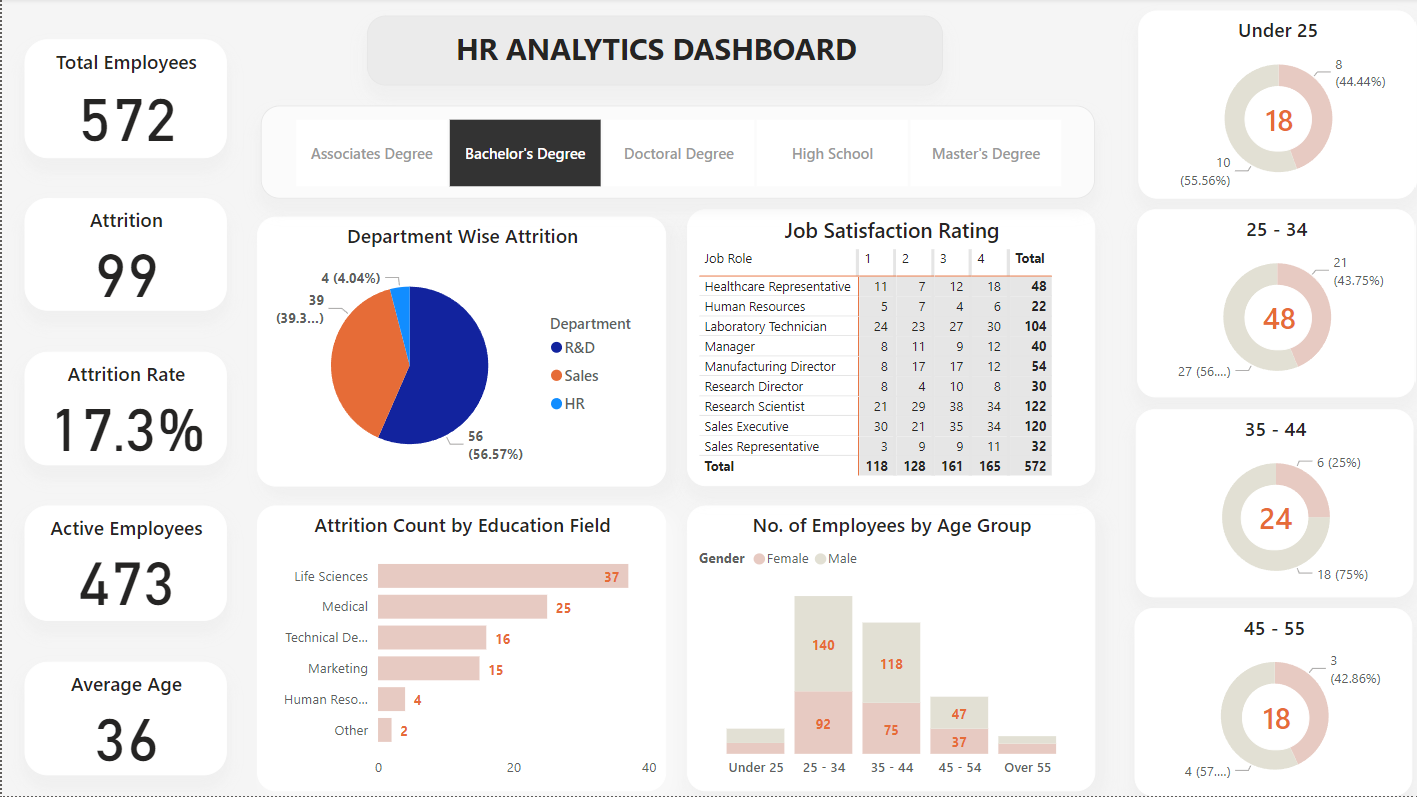

The page's visual inventory and layout, read from the dashboard file:
{"tool":"powerbi","page":{"name":"Page 1","canvas":[1280,720],"ordinal":0},"visuals":[{"type":"card","title":"Total Employees","fields":{"Values":["Sum(HR data.Employee Count)"]},"box":[20.8,36.7,182.1,107.6],"z":0},{"type":"card","title":"Attrition","fields":{"Values":["Sum(HR data.Attrition Count)"]},"box":[20.8,180.6,182.1,101.5],"z":1000},{"type":"card","title":"Attrition Rate","fields":{"Values":["HR data.Attrition Rate"]},"box":[20.8,318.4,182.1,102.7],"z":2000},{"type":"card","title":"Active Employees","fields":{"Values":["HR data.Active employees"]},"box":[20.8,457.5,182.1,103.9],"z":3000},{"type":"card","title":"Average Age","fields":{"Values":["Avg(HR data.Age)"]},"box":[20.8,597.8,182.1,102.7],"z":4000},{"type":"pieChart","title":"Department Wise Attrition","fields":{"Category":["HR data.Department"],"Y":["Sum(HR data.Attrition Count)"]},"box":[229.8,196.8,369.2,243.3],"z":5000},{"type":"columnChart","title":"No. of Employees by Age Group","fields":{"Y":["Sum(HR data.Employee Count)"],"Category":["HR data.CF_age band"],"Series":["HR data.Gender"]},"box":[617.3,457.2,367.9,257.9],"z":6000},{"type":"barChart","title":"Attrition Count by Education Field","fields":{"Category":["HR data.Education Field"],"Y":["Sum(HR data.Attrition Count)"]},"box":[229.8,457.2,369.2,257.9],"z":7000},{"type":"donutChart","title":"Under 25","fields":{"Category":["HR data.Gender"],"Y":["Sum(HR data.Attrition Count)"],"Series":["HR data.CF_age band"]},"box":[1024.4,11,250.6,169.9],"z":8000},{"type":"donutChart","title":"25 - 34","fields":{"Category":["HR data.Gender"],"Y":["Sum(HR data.Attrition Count)"],"Series":["HR data.CF_age band"]},"box":[1023.2,190.7,250.6,169.9],"z":9000},{"type":"donutChart","title":"35 - 44","fields":{"Category":["HR data.Gender"],"Y":["Sum(HR data.Attrition Count)"],"Series":["HR data.CF_age band"]},"box":[1021.9,370.4,250.6,169.9],"z":10000},{"type":"donutChart","title":"45 - 55","fields":{"Category":["HR data.Gender"],"Y":["Sum(HR data.Attrition Count)"],"Series":["HR data.CF_age band"]},"box":[1020.7,550.1,250.6,169.9],"z":11000},{"type":"pivotTable","title":"Job Satisfaction Rating","fields":{"Rows":["HR data.Job Role"],"Columns":["HR data.Job Satisfaction"],"Values":["Sum(HR data.Employee Count)"]},"box":[617.3,190.7,367.9,249.4],"z":12000},{"type":"textbox","box":[328.8,15.9,519.5,63.6],"z":13000},{"type":"slicer","fields":{"Values":["HR data.Education"]},"box":[233.5,96.6,751.8,84.3],"z":14000},{"type":"card","fields":{"Values":["Sum(HR data.Attrition Count)"]},"box":[1119.7,79.5,61.1,58.7],"z":15000},{"type":"card","fields":{"Values":["Sum(HR data.Attrition Count)"]},"box":[1119.7,259.6,61.1,58.7],"z":15001},{"type":"card","fields":{"Values":["Sum(HR data.Attrition Count)"]},"box":[1116.1,439.7,61.1,58.7],"z":15002},{"type":"card","fields":{"Values":["Sum(HR data.Attrition Count)"]},"box":[1117.3,619.8,61.1,58.7],"z":15003}]}

Visuals, with their boxes in screenshot pixels (x1, y1, x2, y2), scaled from the page's 1280x720 canvas onto the 1417x797 screenshot:
"Total Employees" card: {"left": 23, "top": 41, "right": 225, "bottom": 160}
"Attrition" card: {"left": 23, "top": 200, "right": 225, "bottom": 312}
"Attrition Rate" card: {"left": 23, "top": 352, "right": 225, "bottom": 466}
"Active Employees" card: {"left": 23, "top": 506, "right": 225, "bottom": 621}
"Average Age" card: {"left": 23, "top": 662, "right": 225, "bottom": 775}
"Department Wise Attrition" pieChart: {"left": 254, "top": 218, "right": 663, "bottom": 487}
"No. of Employees by Age Group" columnChart: {"left": 683, "top": 506, "right": 1091, "bottom": 792}
"Attrition Count by Education Field" barChart: {"left": 254, "top": 506, "right": 663, "bottom": 792}
"Under 25" donutChart: {"left": 1134, "top": 12, "right": 1411, "bottom": 200}
"25 - 34" donutChart: {"left": 1133, "top": 211, "right": 1410, "bottom": 399}
"35 - 44" donutChart: {"left": 1131, "top": 410, "right": 1409, "bottom": 598}
"45 - 55" donutChart: {"left": 1130, "top": 609, "right": 1407, "bottom": 796}
"Job Satisfaction Rating" pivotTable: {"left": 683, "top": 211, "right": 1091, "bottom": 487}
textbox: {"left": 364, "top": 18, "right": 939, "bottom": 88}
slicer - HR data.Education: {"left": 258, "top": 107, "right": 1091, "bottom": 200}
card - Sum(HR data.Attrition Count): {"left": 1240, "top": 88, "right": 1307, "bottom": 153}
card - Sum(HR data.Attrition Count): {"left": 1240, "top": 287, "right": 1307, "bottom": 352}
card - Sum(HR data.Attrition Count): {"left": 1236, "top": 487, "right": 1303, "bottom": 552}
card - Sum(HR data.Attrition Count): {"left": 1237, "top": 686, "right": 1305, "bottom": 751}
